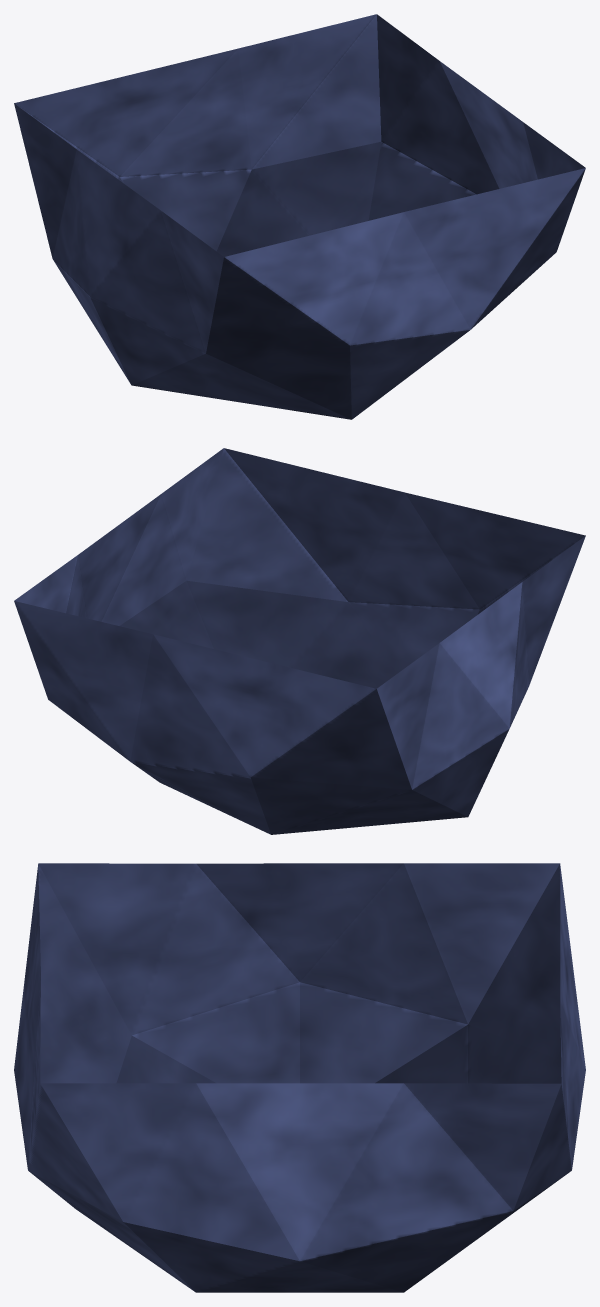
Rendered from meteaor.dae.
3 renders of one model, top to bottom at view 1: azimuth 30°, elevation 25°; view 2: azimuth 150°, elevation 25°; view 3: azimuth 270°, elevation 25°, orthographic. The views are drawn at different scales.
Parts seen in each view (by area): view 1: Icosphere; view 2: Icosphere; view 3: Icosphere.
Boxes of the visible parts, box(x1,y1,x2,y2) form: Icosphere: box(14, 14, 585, 419); Icosphere: box(14, 448, 585, 834); Icosphere: box(14, 863, 585, 1292).
Bounding box in the file's own units: 1.8 × 1.7 × 1.
1 material, 1 textured.
